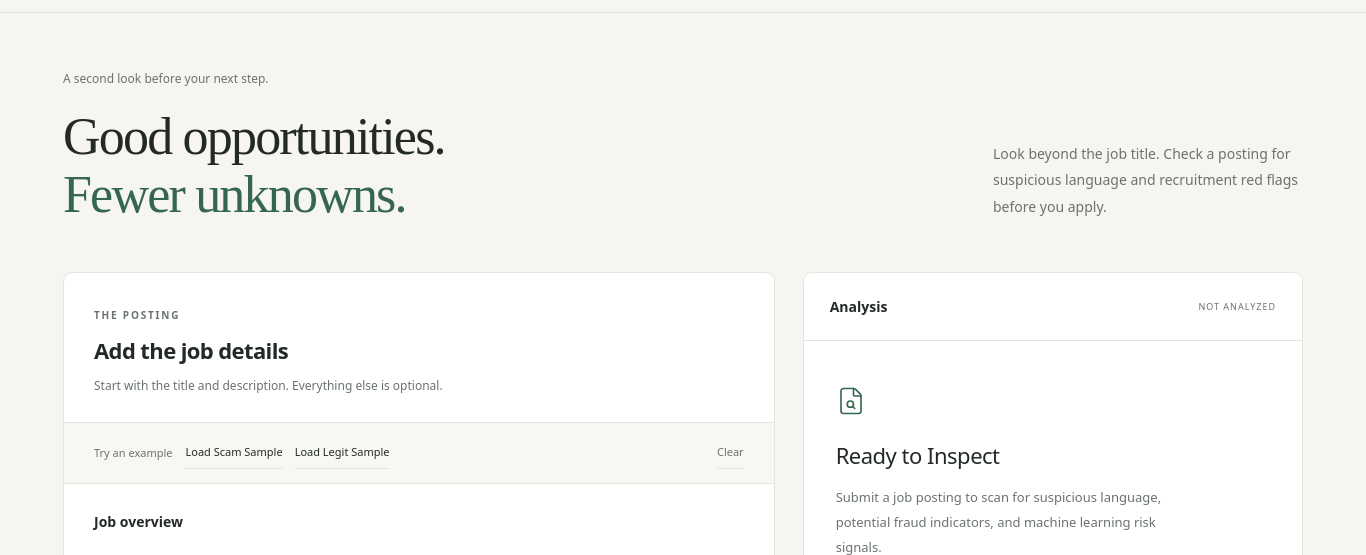
Test: workspace › handles network failure with retry using current content
The image size is (1366, 555).
Click the button "Load Scam Sample" at (234, 453), box 186,437 -> 283,469
(page scrolled)
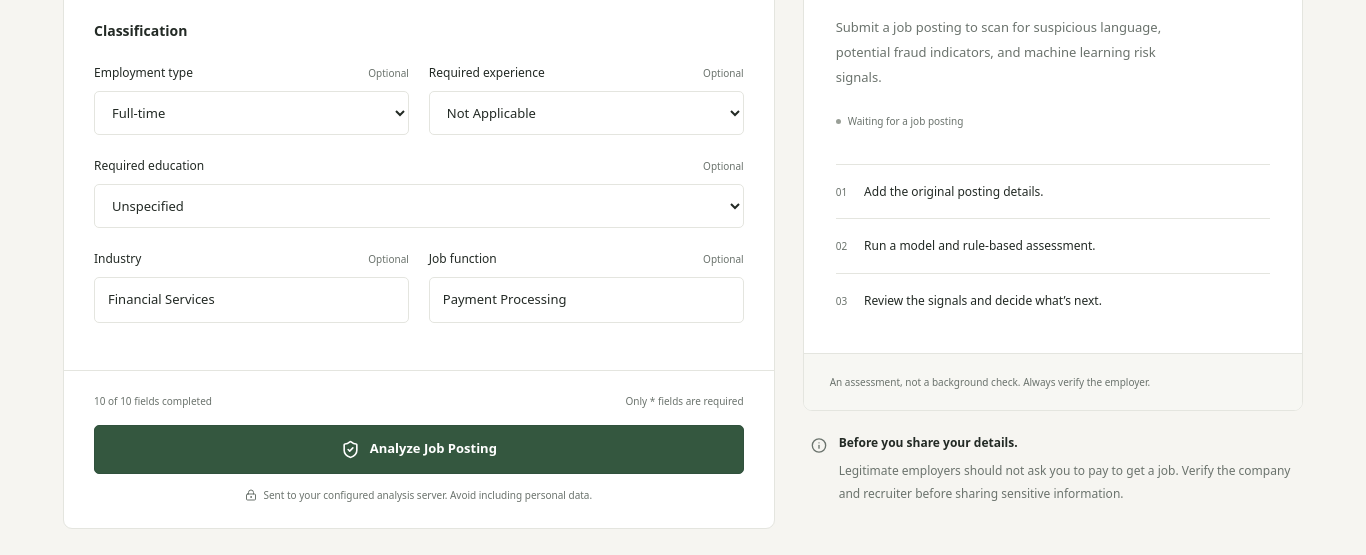
Click the button "Analyze Job Posting" at (419, 449), box 94,424 -> 744,474
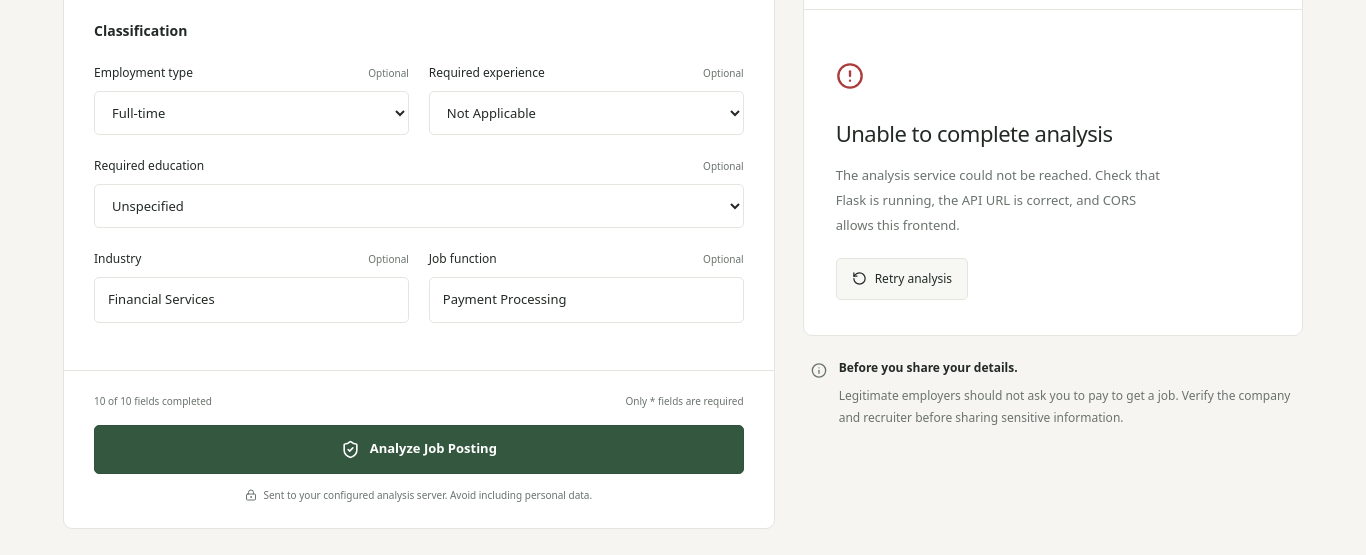
Expected: the message shows "could not be reached", 836,166 -> 1160,233
Click the button "Retry analysis" at (902, 278), box 836,257 -> 968,299
(page scrolled)
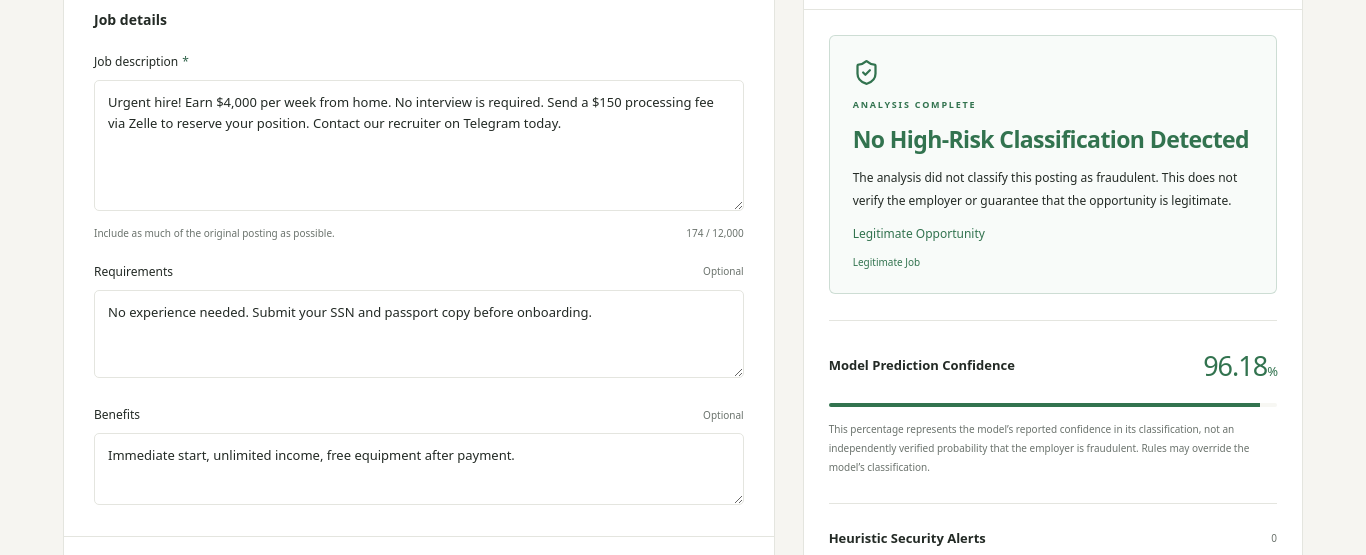
Expected: the text "Legitimate Opportunity" is shown, 853,224 -> 985,242
